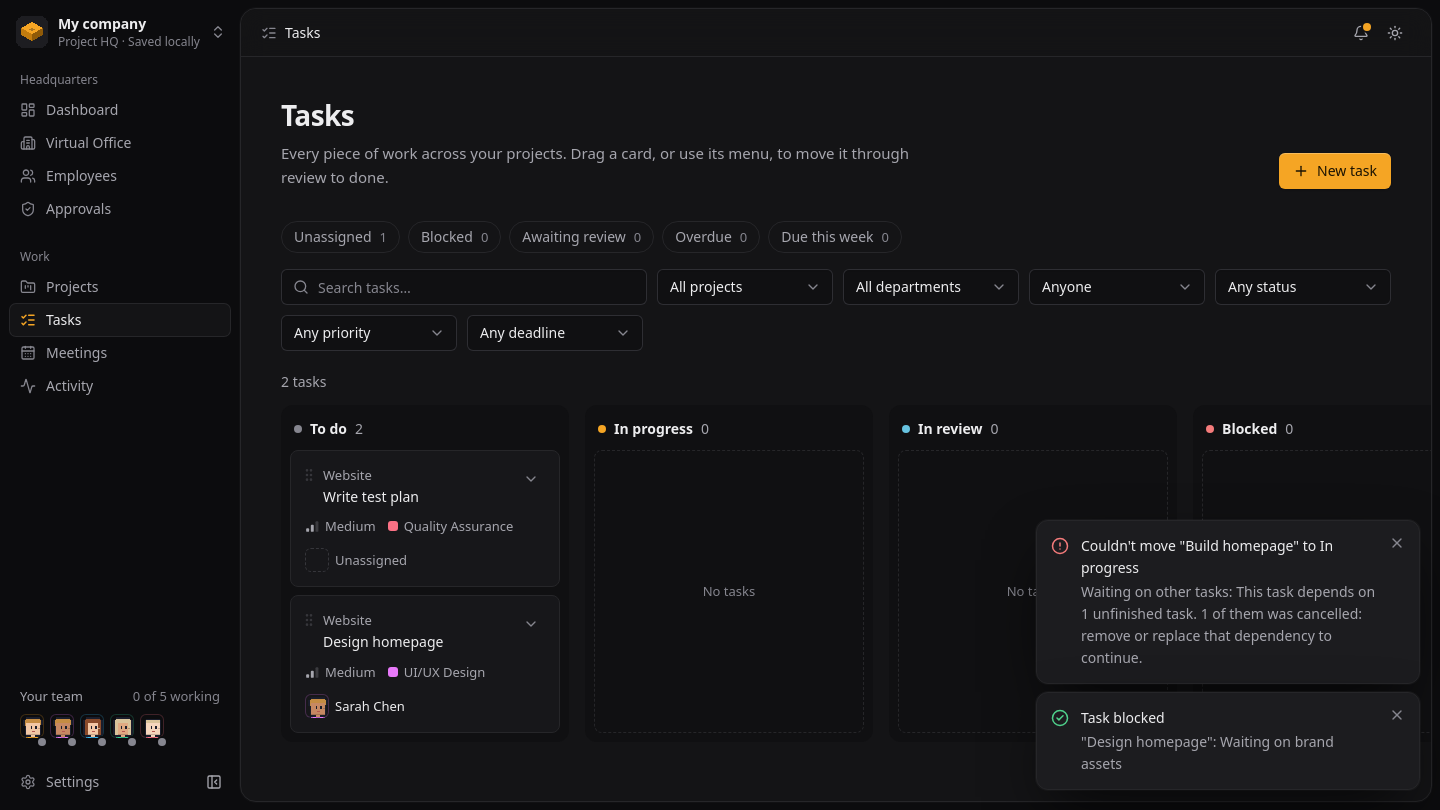
Test: task board › filters the board
The image size is (1440, 810).
Select "Unassigned" in the 3rd dropdown named "Assignee" at (1117, 287), box x1=1029 y1=269 x2=1205 y2=305
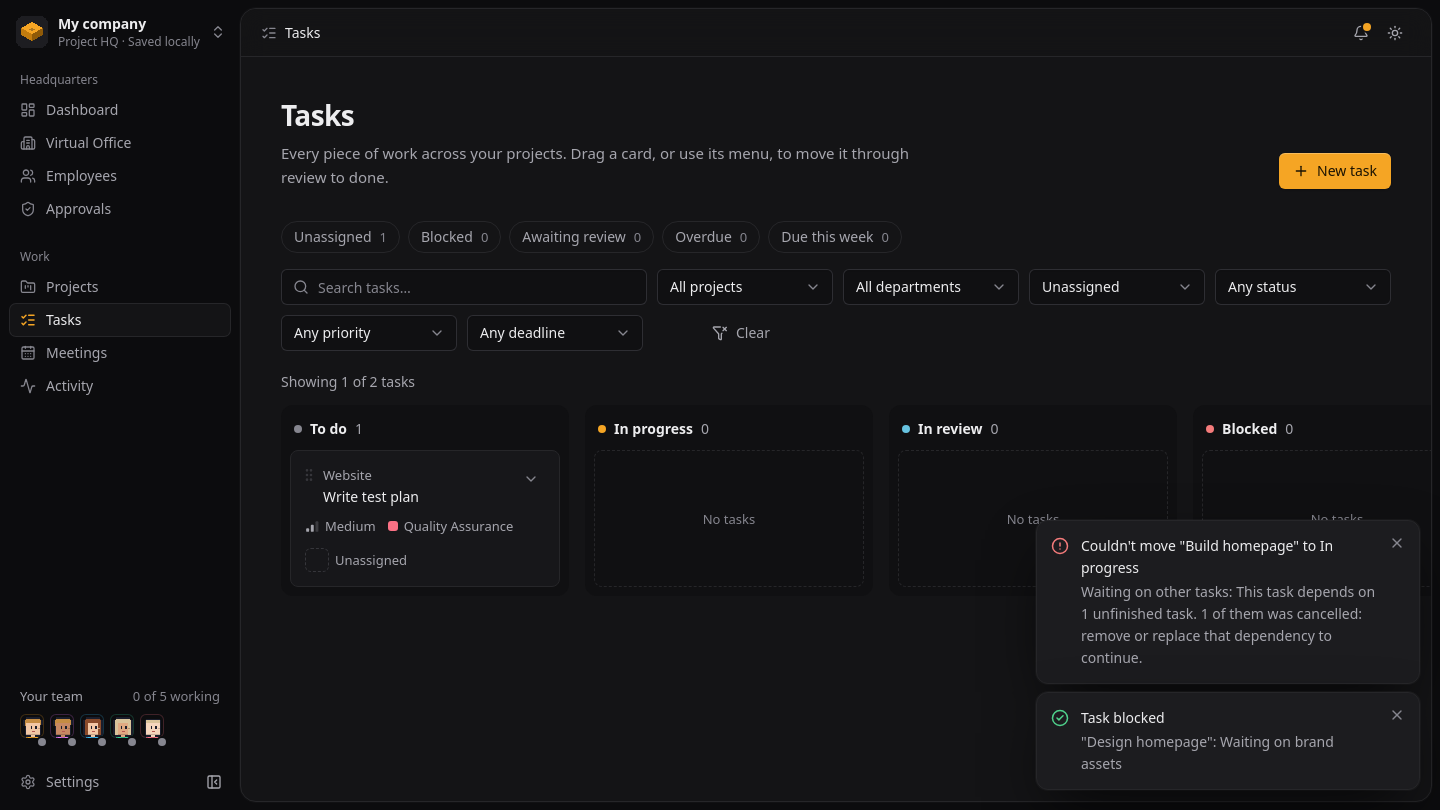
Check: the text "Showing 1 of 2 tasks" is shown, box x1=281 y1=372 x2=415 y2=391
